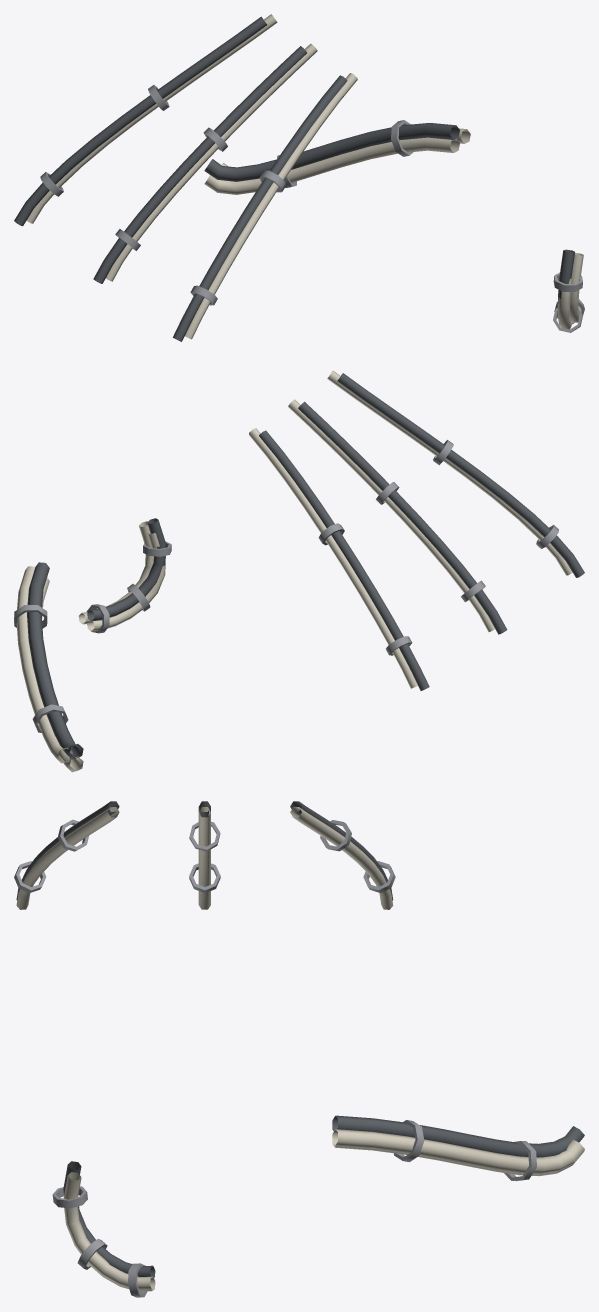
File: sr150_harness.obj
3 renders of one model, top to bottom at view 1: azimuth 30°, elevation 25°; view 2: azimuth 150°, elevation 25°; view 3: azimuth 270°, elevation 25°, orthographic. The views are drawn at different scales.
Parts seen in each view (by area): view 1: sr150_harness; view 2: sr150_harness; view 3: sr150_harness.
Part boxes in pixels (bbox=[...]): sr150_harness: bbox=[14, 14, 584, 341]; sr150_harness: bbox=[14, 370, 584, 772]; sr150_harness: bbox=[14, 801, 584, 1297].
Bounding box in the file's own units: 1.41 × 0.9181 × 1.31.
